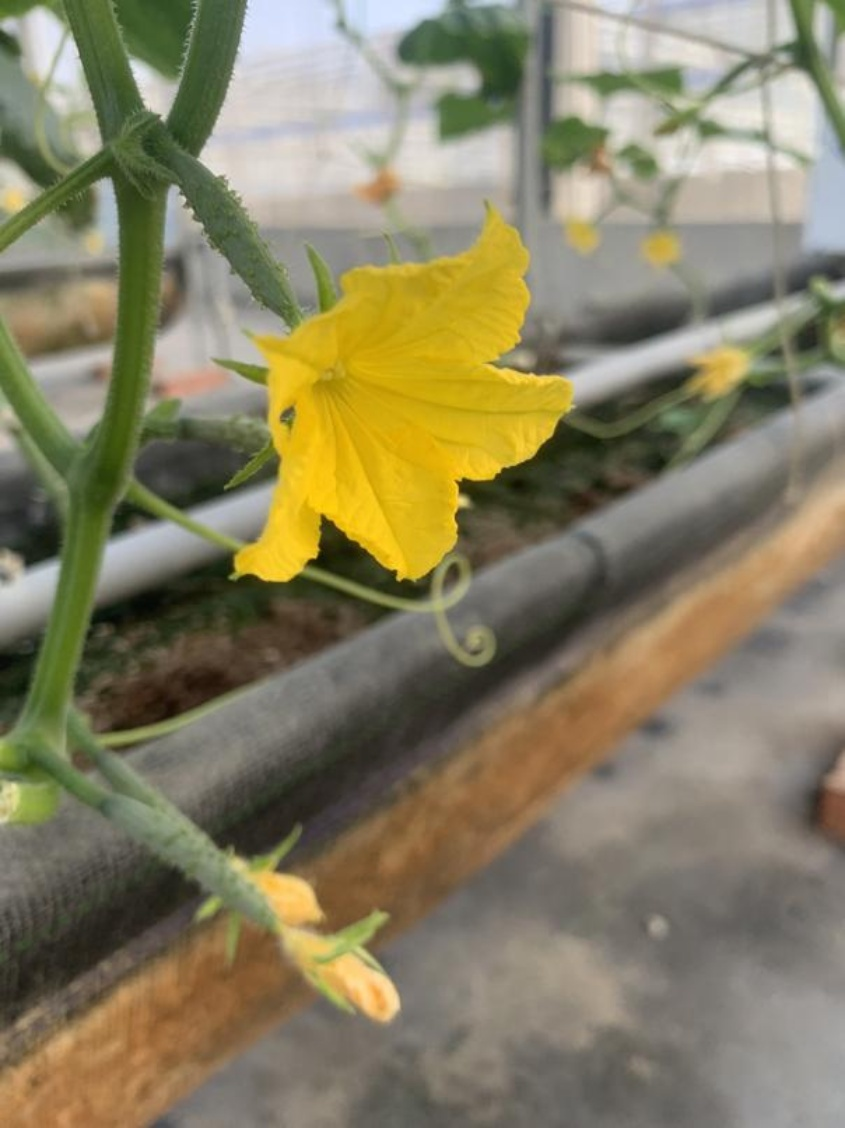flowering: (69, 145, 592, 597)
